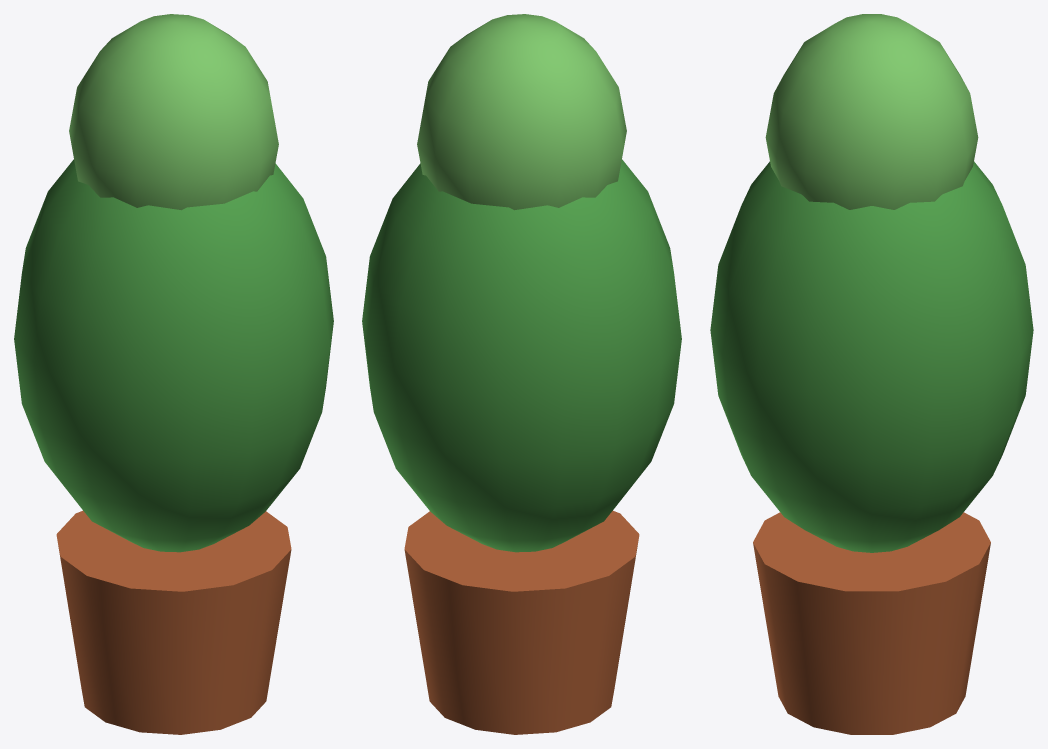
File: topiary.glb
3 renders of one model, left to right at view 1: azimuth 30°, elevation 25°; view 2: azimuth 150°, elevation 25°; view 3: azimuth 270°, elevation 25°, orthographic.
Visible parts, largest first — view 1: Ball, Pot, Ball2; view 2: Ball, Pot, Ball2; view 3: Ball, Pot, Ball2.
Boxes of the visible parts, x1,y1,x2,y2 form: Ball: (14,159,333,552); Pot: (56,510,291,734); Ball2: (69,14,278,210); Ball: (362,159,681,552); Pot: (404,510,639,734); Ball2: (417,14,626,210); Ball: (710,161,1033,552); Pot: (753,512,990,734); Ball2: (765,14,978,209).
Size of the model in its own units: 0.76 by 1.75 by 0.76.
